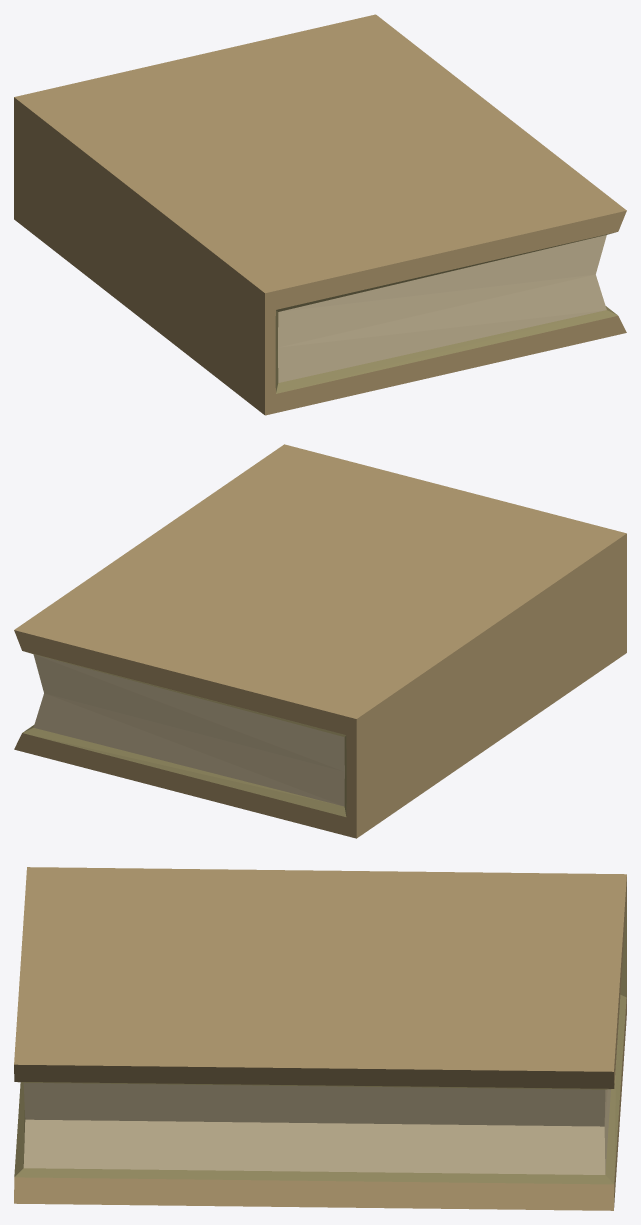
File: 3D_book_4.fbx
3 views of the same model, one above another, from view 1: azimuth 30°, elevation 25°; view 2: azimuth 150°, elevation 25°; view 3: azimuth 270°, elevation 25° (orthographic). The views are drawn at different scales.
Parts seen in each view (by area): view 1: 3d_book.003; view 2: 3d_book.003; view 3: 3d_book.003.
Part boxes in pixels (box(x1,y1,x2,y2)): 3d_book.003: box(14, 14, 626, 415); 3d_book.003: box(14, 444, 626, 838); 3d_book.003: box(14, 867, 626, 1210).
Bounding box in the file's own units: 0.3727 × 0.118 × 0.4717.
